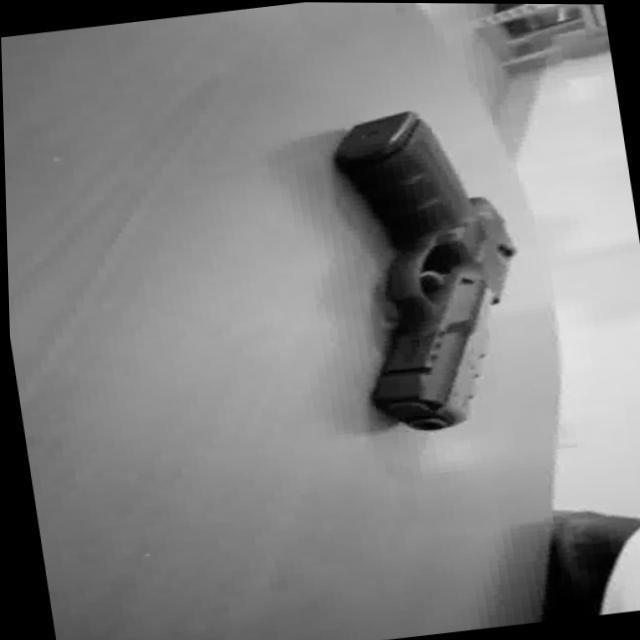weapon: (323, 98, 540, 437)
